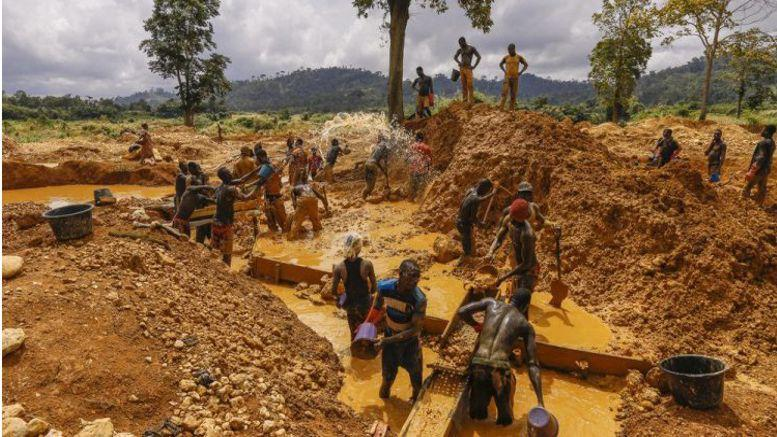MiningTool: (657, 354, 727, 410), (479, 174, 513, 242), (41, 204, 94, 246), (550, 224, 570, 306), (348, 324, 380, 362), (521, 407, 559, 437), (473, 263, 499, 285), (92, 185, 115, 207), (383, 165, 393, 200), (254, 164, 272, 181), (337, 291, 347, 309), (448, 68, 460, 82)
Person: (458, 289, 545, 427), (367, 257, 425, 400), (482, 197, 541, 328), (203, 164, 261, 268), (497, 182, 553, 289), (331, 226, 377, 345), (453, 175, 493, 261), (253, 149, 289, 233), (171, 181, 218, 242), (743, 124, 777, 206), (287, 178, 326, 241), (498, 42, 529, 118), (403, 131, 435, 201), (452, 36, 482, 106), (358, 138, 390, 201), (409, 65, 436, 121), (649, 125, 683, 167), (319, 136, 350, 182), (703, 127, 728, 179), (284, 139, 308, 184), (134, 121, 156, 168), (231, 144, 256, 179), (307, 145, 325, 181), (174, 159, 190, 198), (187, 160, 202, 189), (250, 141, 265, 164)
ProcessingEquipment: (394, 283, 508, 437), (147, 183, 264, 242)
